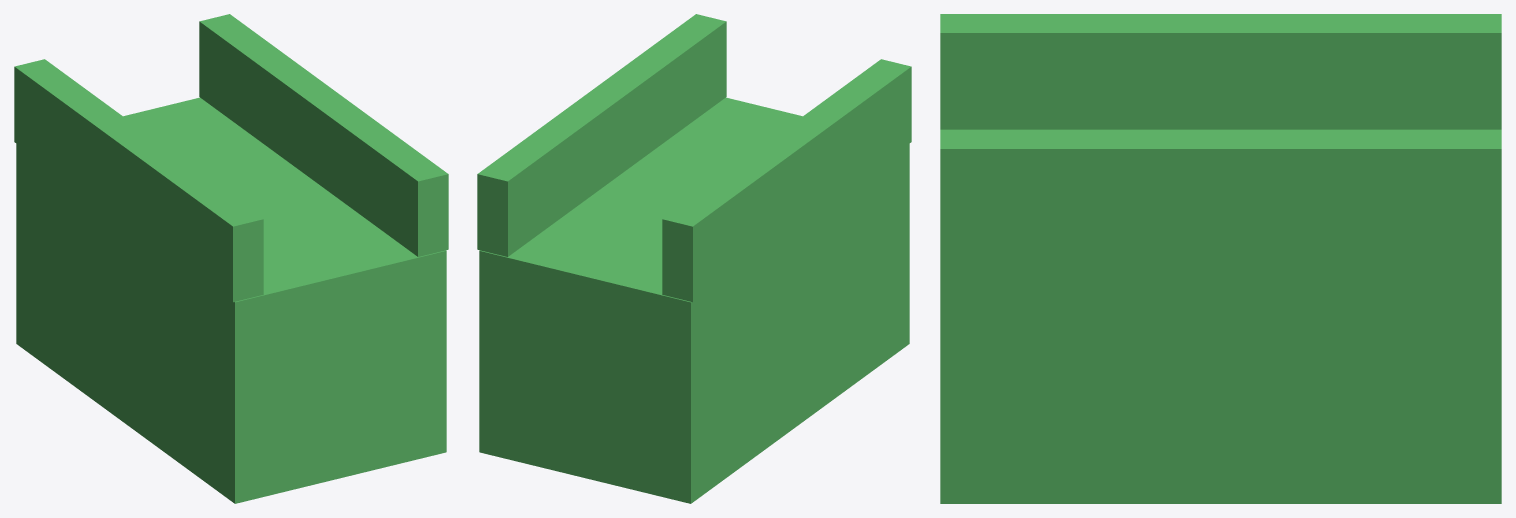
File: fortress_wallwalk_straight_6m_collision.glb
3 renders of one model, left to right at view 1: azimuth 30°, elevation 25°; view 2: azimuth 150°, elevation 25°; view 3: azimuth 270°, elevation 25°, orthographic. The views are drawn at different scales.
Visible parts, largest first — view 1: fortress_wallwalk_straight_6m-col-wall, fortress_wallwalk_straight_6m-col-left, fortress_wallwalk_straight_6m-col-right; view 2: fortress_wallwalk_straight_6m-col-wall, fortress_wallwalk_straight_6m-col-left, fortress_wallwalk_straight_6m-col-right; view 3: fortress_wallwalk_straight_6m-col-wall, fortress_wallwalk_straight_6m-col-right, fortress_wallwalk_straight_6m-col-left.
Boxes of the visible parts, left/top/right/bottom form: fortress_wallwalk_straight_6m-col-wall: left=16, top=97, right=446, bottom=503; fortress_wallwalk_straight_6m-col-left: left=14, top=59, right=263, bottom=302; fortress_wallwalk_straight_6m-col-right: left=199, top=14, right=448, bottom=256; fortress_wallwalk_straight_6m-col-wall: left=479, top=97, right=909, bottom=503; fortress_wallwalk_straight_6m-col-left: left=662, top=59, right=911, bottom=302; fortress_wallwalk_straight_6m-col-right: left=477, top=14, right=726, bottom=256; fortress_wallwalk_straight_6m-col-wall: left=940, top=245, right=1501, bottom=503; fortress_wallwalk_straight_6m-col-right: left=940, top=129, right=1501, bottom=245; fortress_wallwalk_straight_6m-col-left: left=940, top=14, right=1501, bottom=129.
Bounding box in the file's own units: 3.4 × 4.19 × 5.98.
